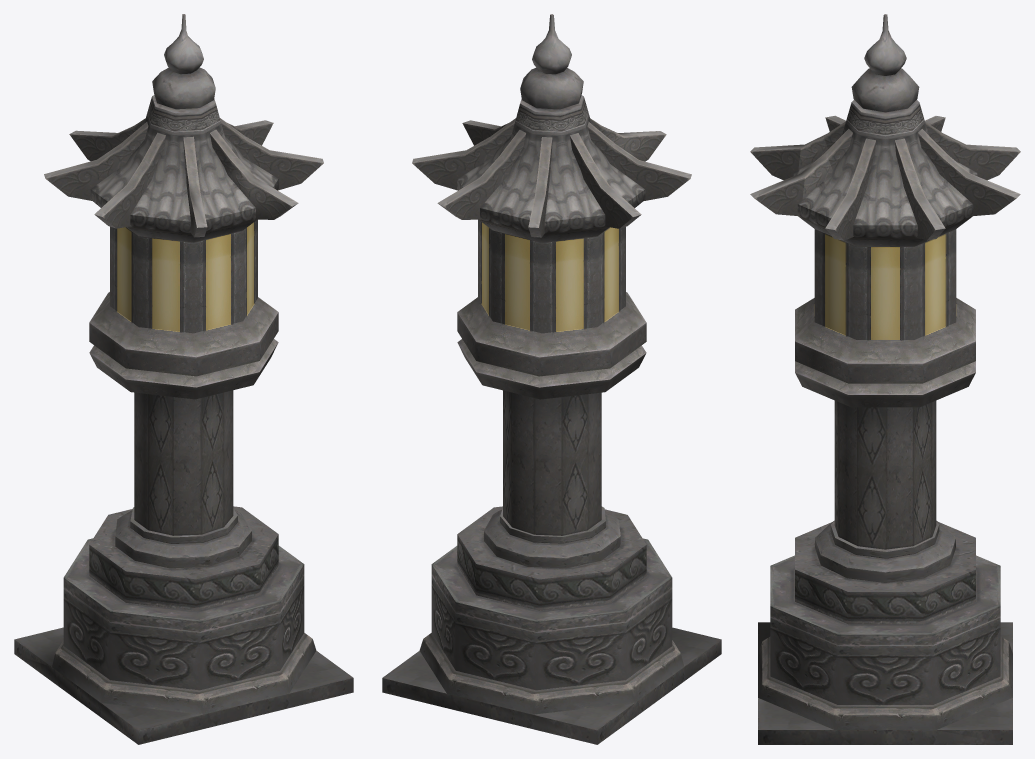
File: q01a_thing_04.FBX
3 renders of one model, left to right at view 1: azimuth 30°, elevation 25°; view 2: azimuth 150°, elevation 25°; view 3: azimuth 270°, elevation 25°, orthographic. The views are drawn at different scales.
Parts seen in each view (by area): view 1: q01a_thing_04; view 2: q01a_thing_04; view 3: q01a_thing_04.
Boxes of the visible parts, box(x1,y1,x2,y2) form: q01a_thing_04: box(14, 14, 353, 744); q01a_thing_04: box(382, 14, 721, 744); q01a_thing_04: box(750, 14, 1020, 744).
Bounding box in the file's own units: 20.01 × 55.11 × 20.01.
